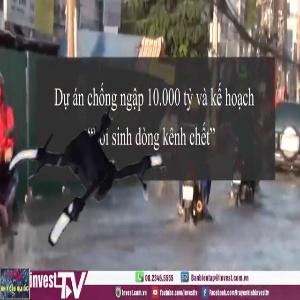drone: (6, 85, 180, 259)
